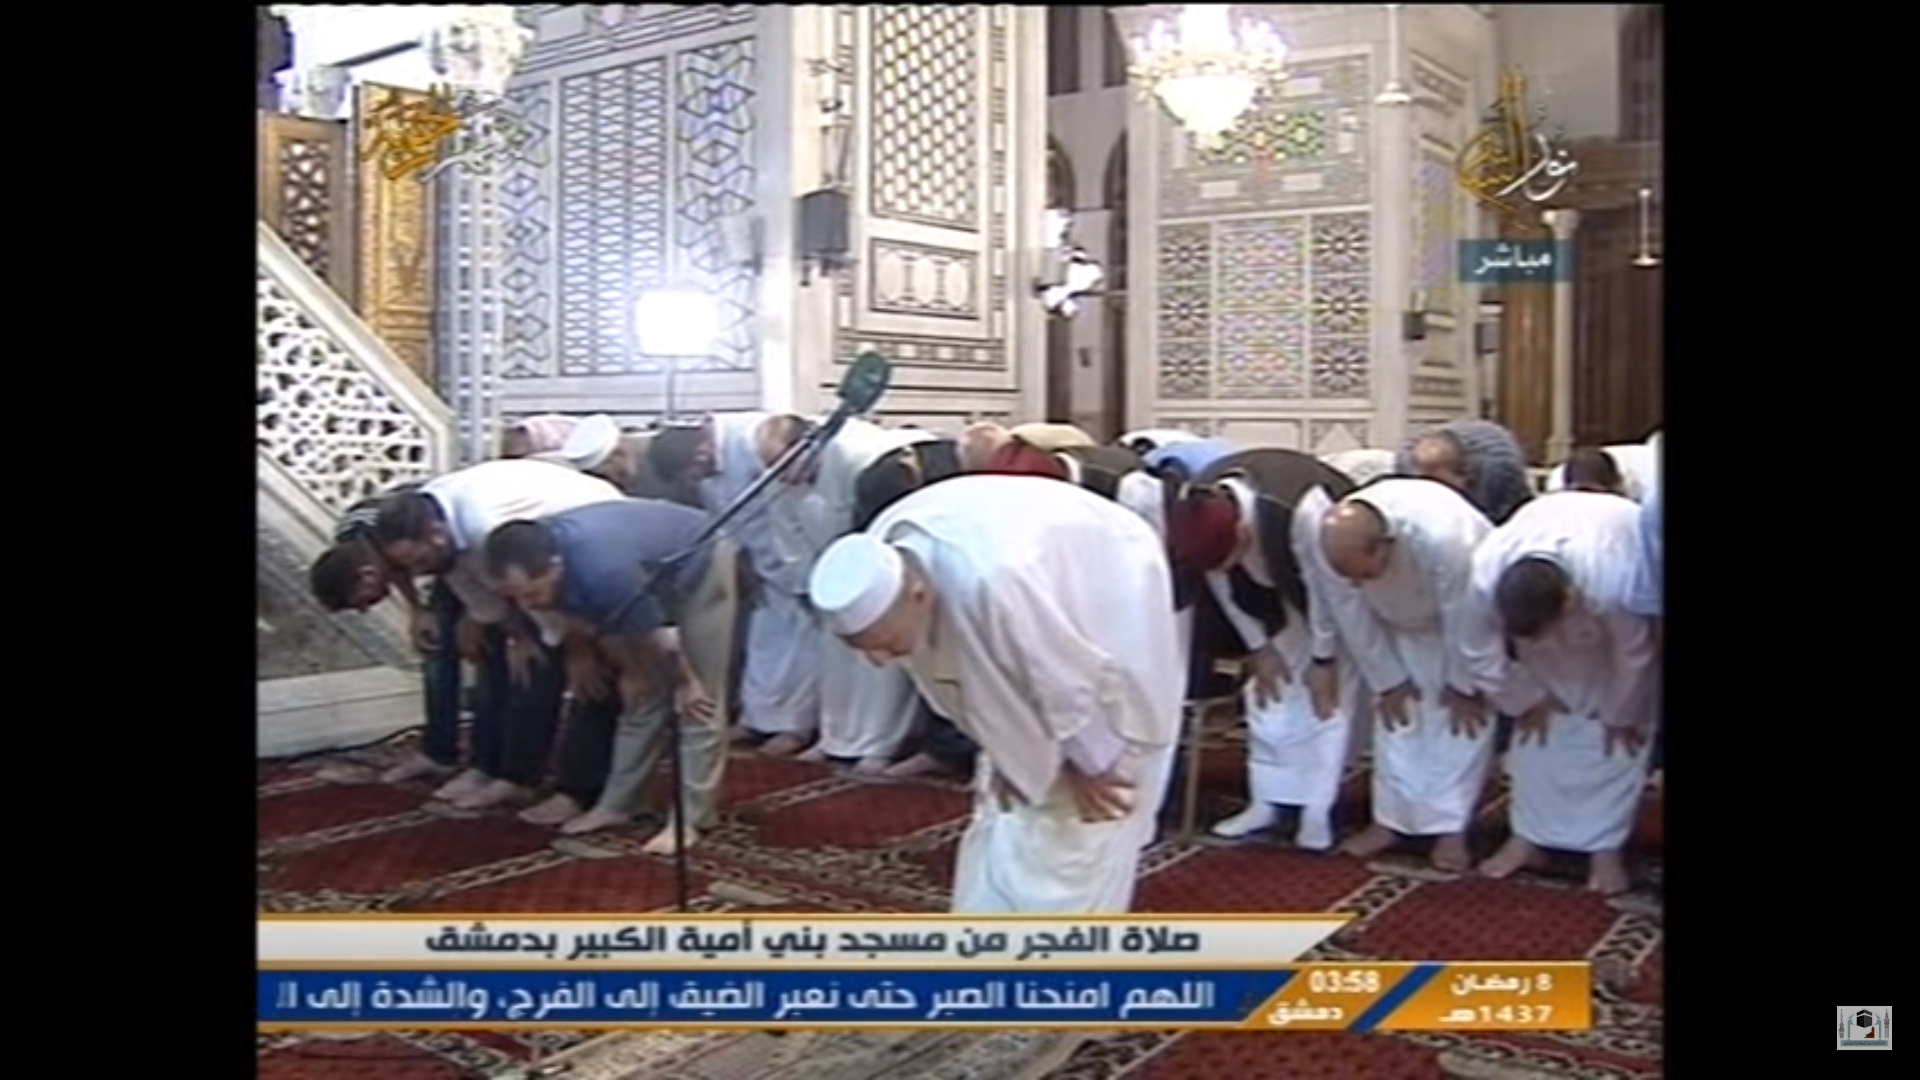ruku: (828, 481, 1251, 1038), (483, 498, 798, 861)
